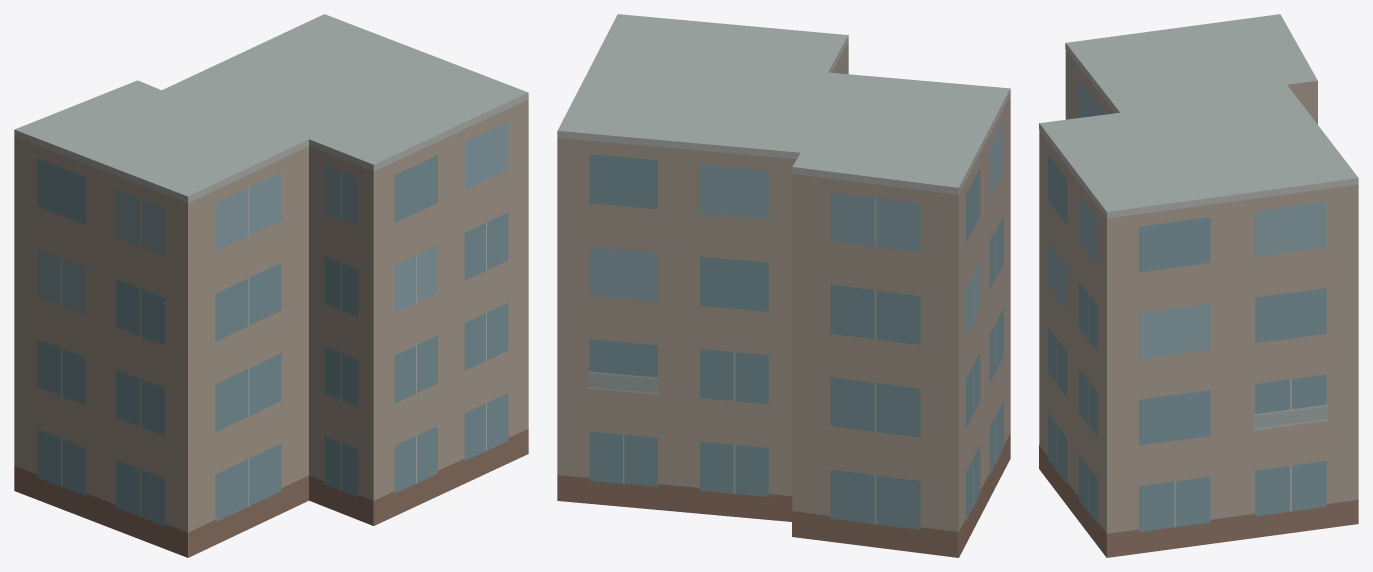
The model's file is survey-upis-32616971.glb.
3 renders of one model, left to right at view 1: azimuth 30°, elevation 25°; view 2: azimuth 150°, elevation 25°; view 3: azimuth 270°, elevation 25°, orthographic. The views are drawn at different scales.
Parts seen in each view (by area): view 1: survey-upis-32616971.tmp; view 2: survey-upis-32616971.tmp; view 3: survey-upis-32616971.tmp.
Part boxes in pixels (left/top/right/bottom): survey-upis-32616971.tmp: left=14, top=14, right=528, bottom=557; survey-upis-32616971.tmp: left=557, top=14, right=1010, bottom=557; survey-upis-32616971.tmp: left=1039, top=14, right=1358, bottom=557.
Bounding box in the file's own units: 15.72 × 12.8 × 10.72.
